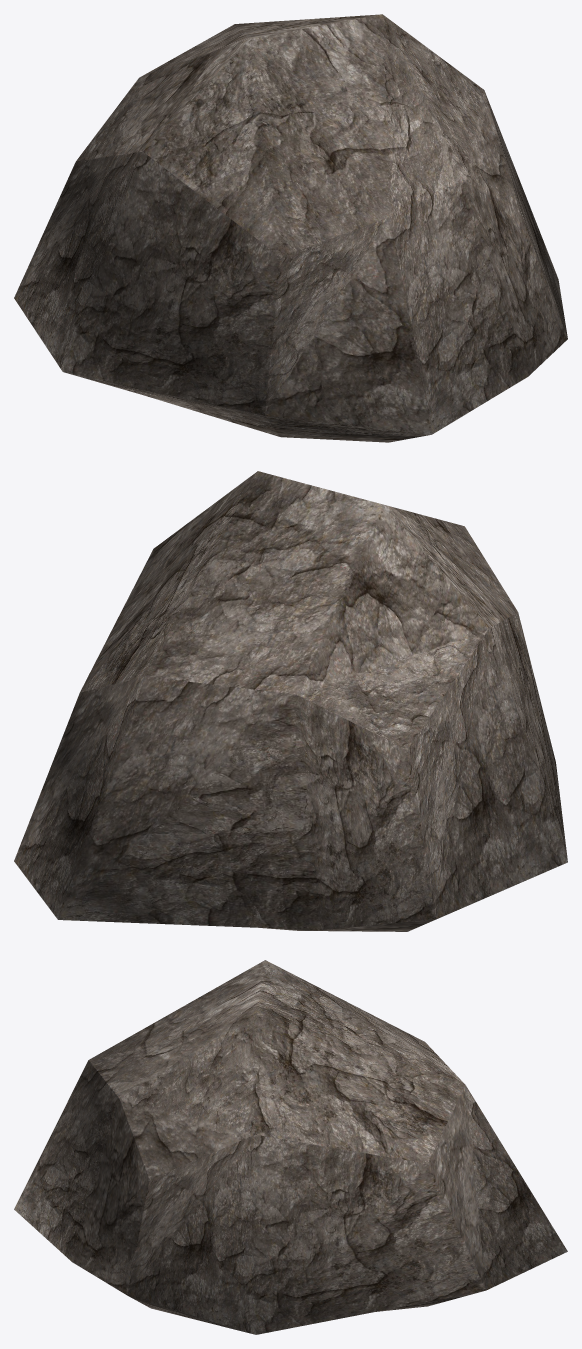
Rendered from Stone_02_T05.FBX.
The picture shows the model from 3 angles, top to bottom: view 1: azimuth 30°, elevation 25°; view 2: azimuth 150°, elevation 25°; view 3: azimuth 270°, elevation 25°; orthographic projection. The views are drawn at different scales.
Visible parts, largest first — view 1: Box001; view 2: Box001; view 3: Box001.
Part boxes in pixels (<box>): Box001: <box>14,14,567,442</box>; Box001: <box>14,471,567,931</box>; Box001: <box>14,960,567,1334</box>.
Size of the model in its own units: 46.49 by 31.86 by 56.21.
